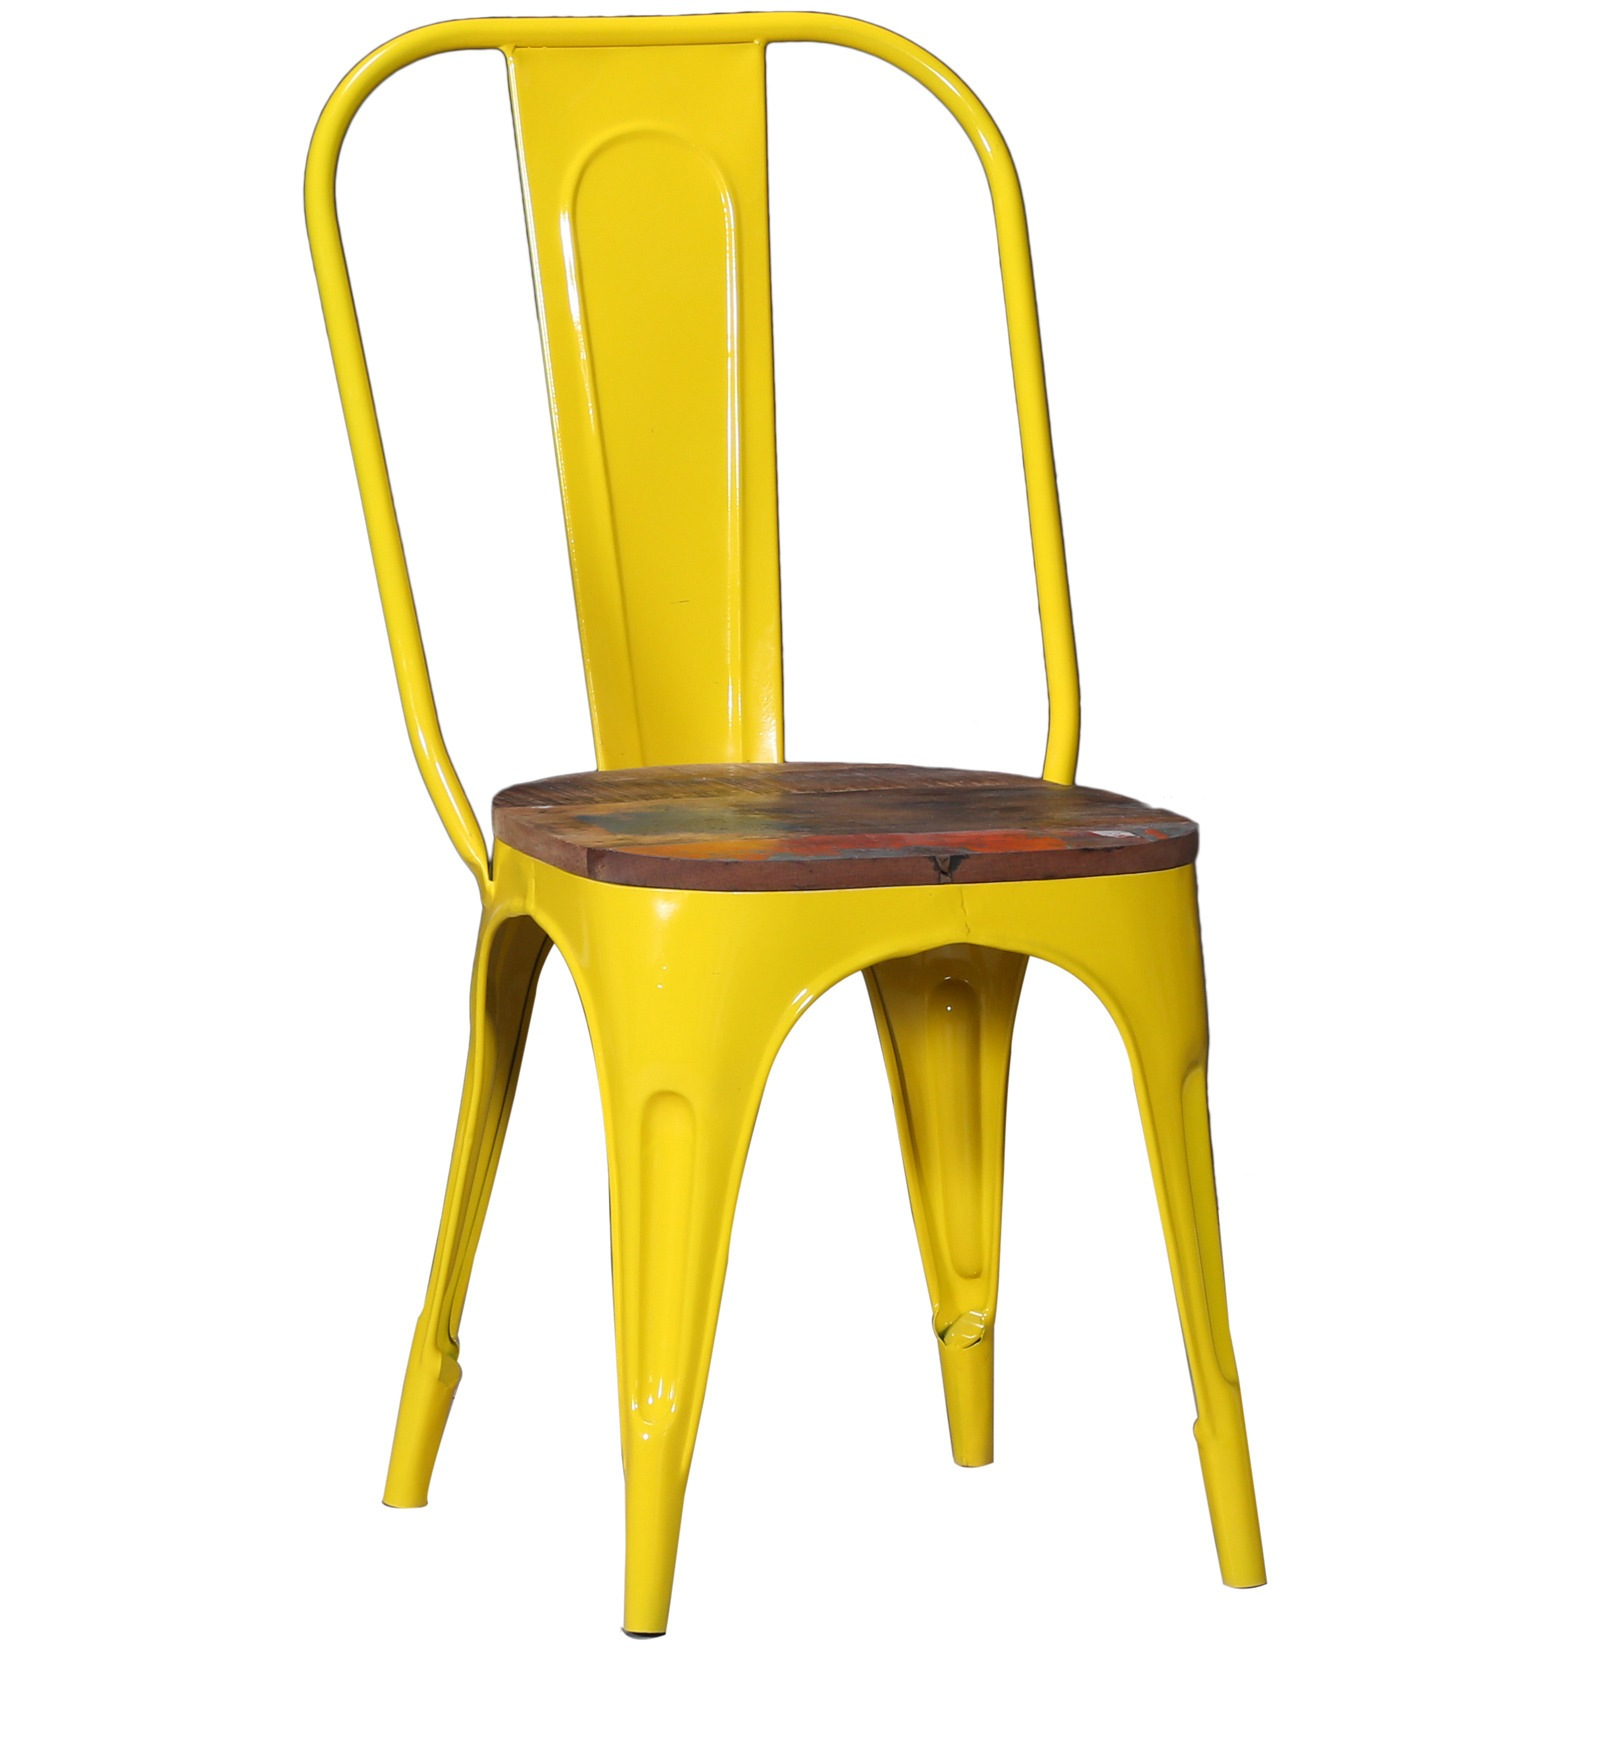Kumtor Metal Chair in Distress Yellow Color with Wooden Seat by Bohemiana: (247, 9, 1362, 1688)
